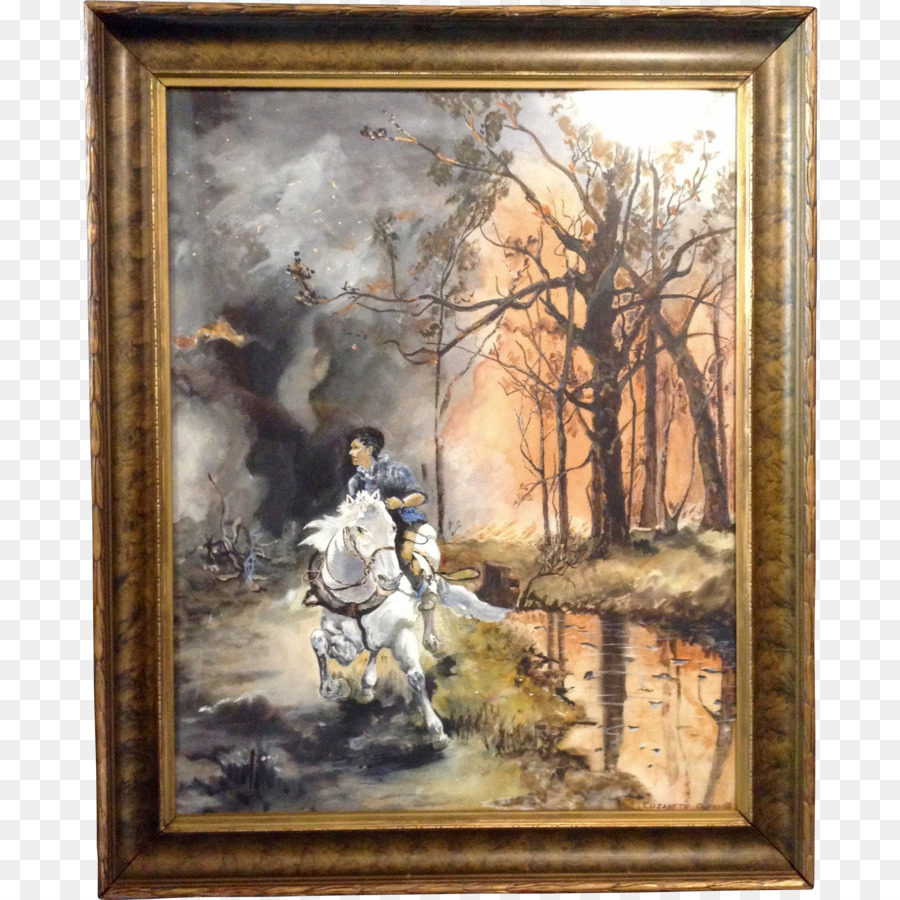lukisan: (76, 18, 837, 900)
